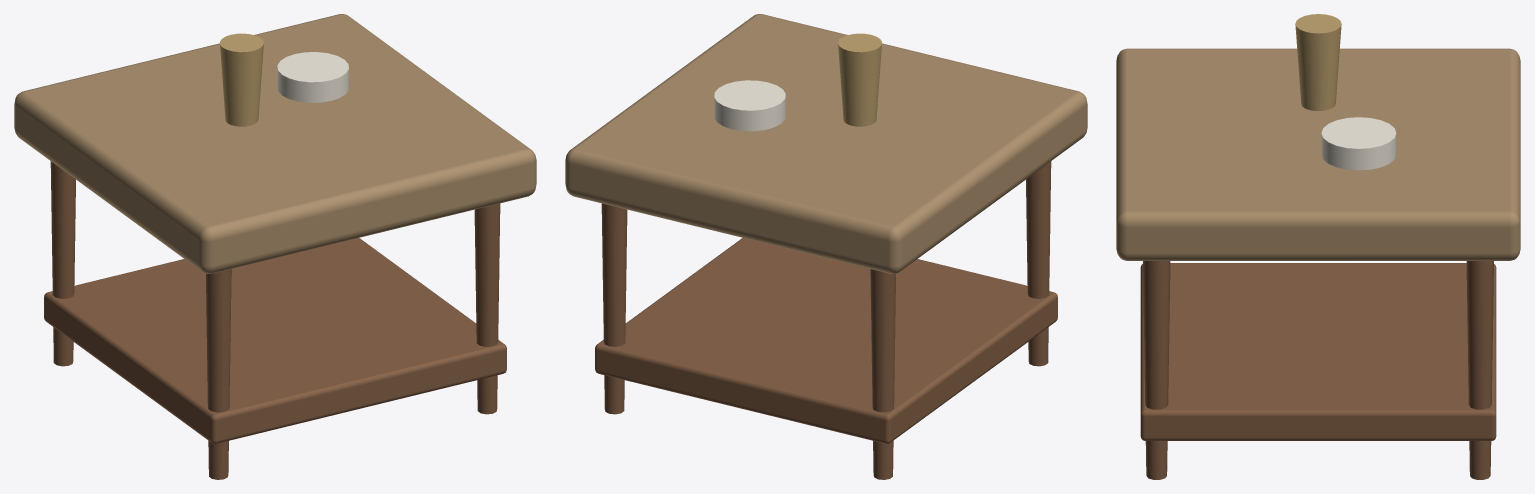
Rendered from table-21-0.glb.
3 views of the same model, side by side, from view 1: azimuth 30°, elevation 25°; view 2: azimuth 150°, elevation 25°; view 3: azimuth 270°, elevation 25° (orthographic). The views are drawn at different scales.
Parts seen in each view (by area): view 1: upholstery, part (×3); view 2: upholstery, part (×3); view 3: upholstery, part (×3).
Part boxes in pixels (x1,y1,x2,y2): upholstery: [14, 14, 536, 273]; part (×3): [44, 33, 506, 479]; upholstery: [565, 14, 1087, 273]; part (×3): [595, 33, 1057, 479]; upholstery: [1116, 48, 1520, 260]; part (×3): [1140, 14, 1496, 479].
Bounding box in the file's own units: 1 × 1 × 1.
